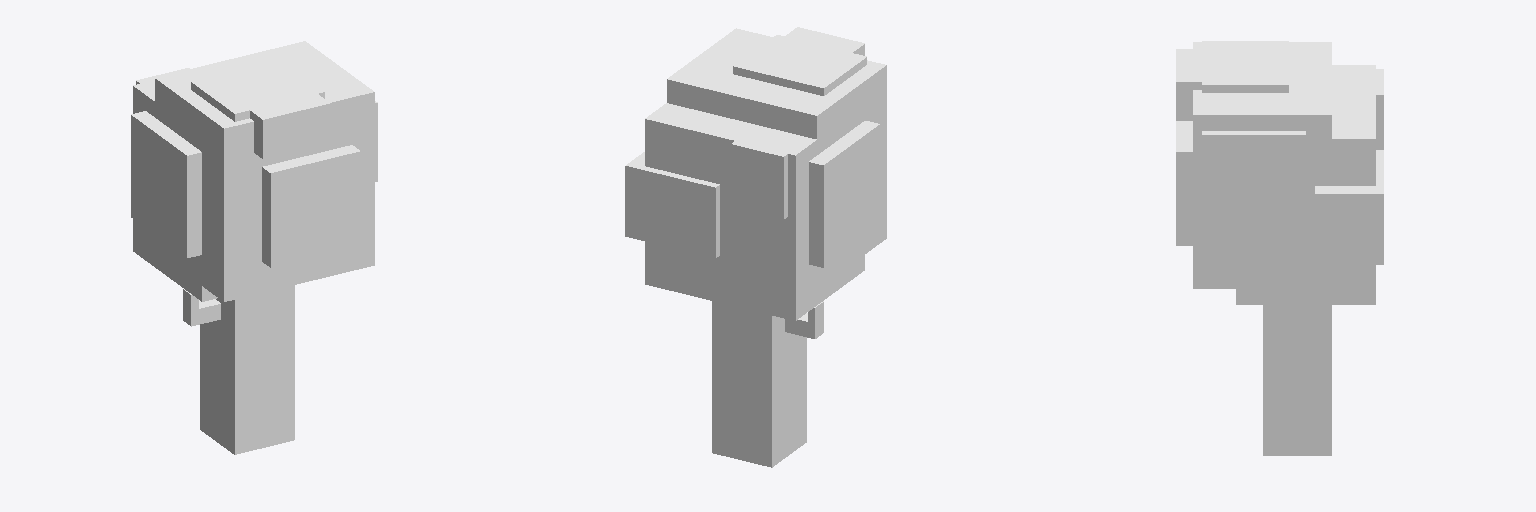
File: tree_block.obj
3 renders of one model, left to right at view 1: azimuth 30°, elevation 25°; view 2: azimuth 150°, elevation 25°; view 3: azimuth 270°, elevation 25°, orthographic.
Visible parts, largest first — view 1: object 1; view 2: object 1; view 3: object 1.
Boxes of the visible parts, box(x1,y1,x2,y2) form: object 1: box(131, 41, 377, 454); object 1: box(625, 27, 886, 467); object 1: box(1176, 41, 1383, 455).
Bounding box in the file's own units: 2.4 × 4.7 × 2.4.